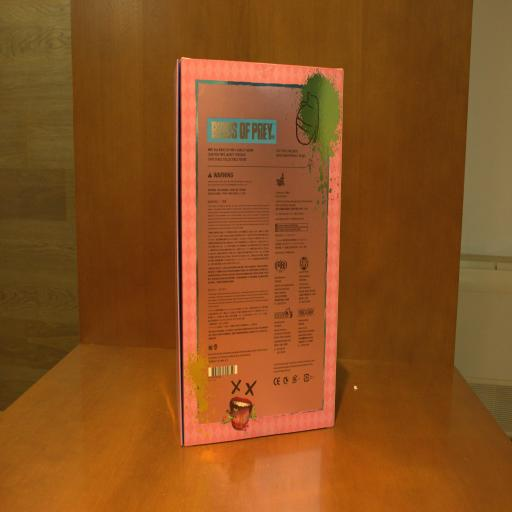Harley: (174, 57, 344, 448)
